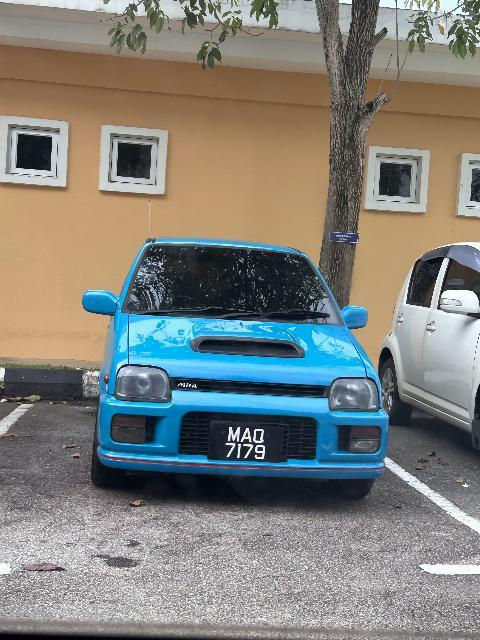License_Plate: (205, 421, 289, 465)
MAQ7179: (205, 421, 289, 465)
car: (79, 227, 401, 507)
